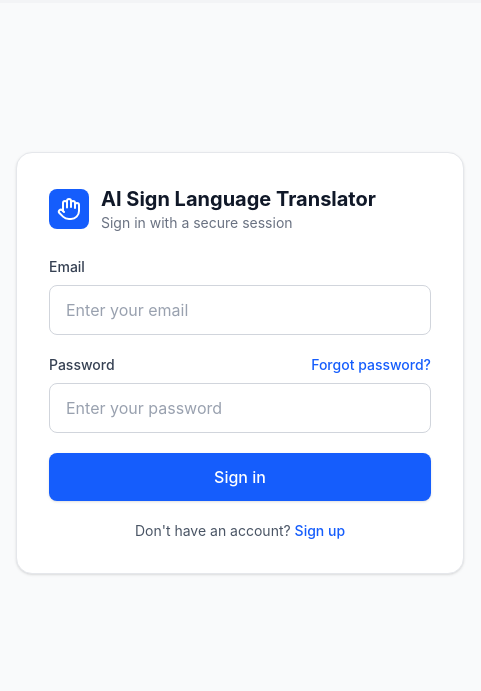
Test: LoginPage › reveals second-factor controls when the API requests 2FA
The image size is (481, 691).
Type "user@example.com" into the field labelled "Email" at (240, 310), box [49,285,431,335]
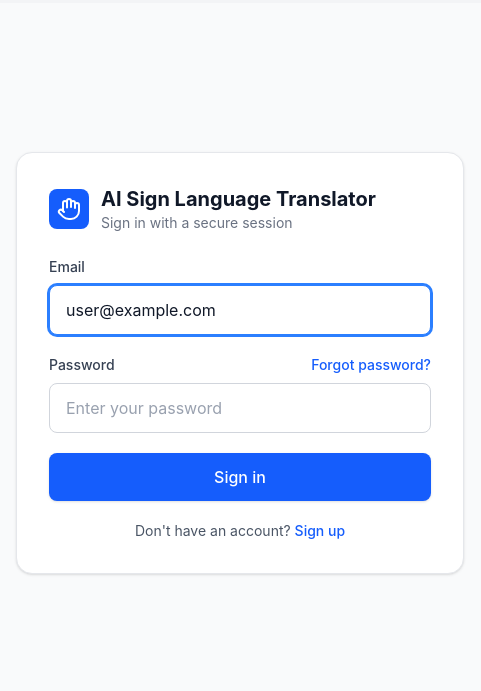
Type "supersecret" into the password field labelled "Password" at (240, 408), box [49,383,431,433]
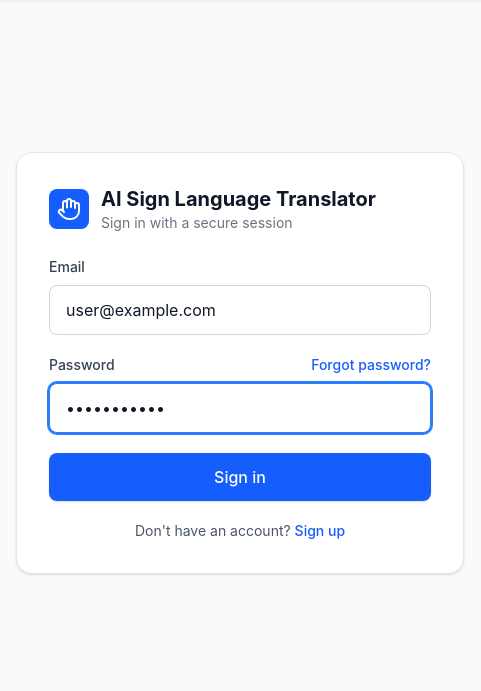
Click the button "Sign in" at (240, 477), box [49,453,431,501]
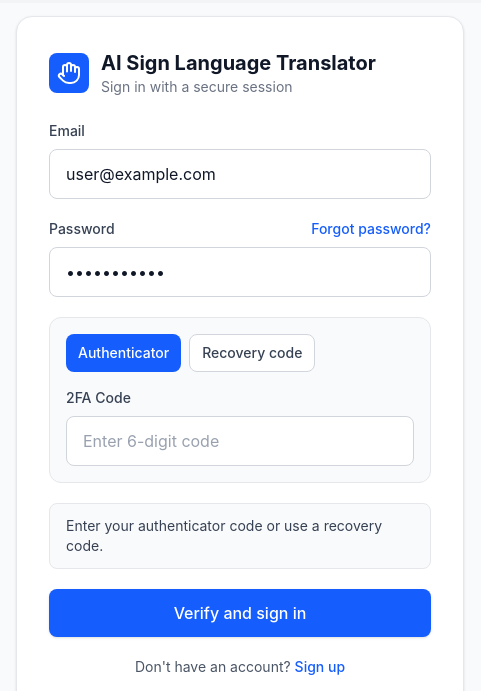
Expected: the text "Enter your authenticator code or use a recovery code." is shown, [49,503,431,569]
Expected: the button "Authenticator" is shown, [66,334,181,372]
Expected: the button "Recovery code" is shown, [189,334,315,372]
